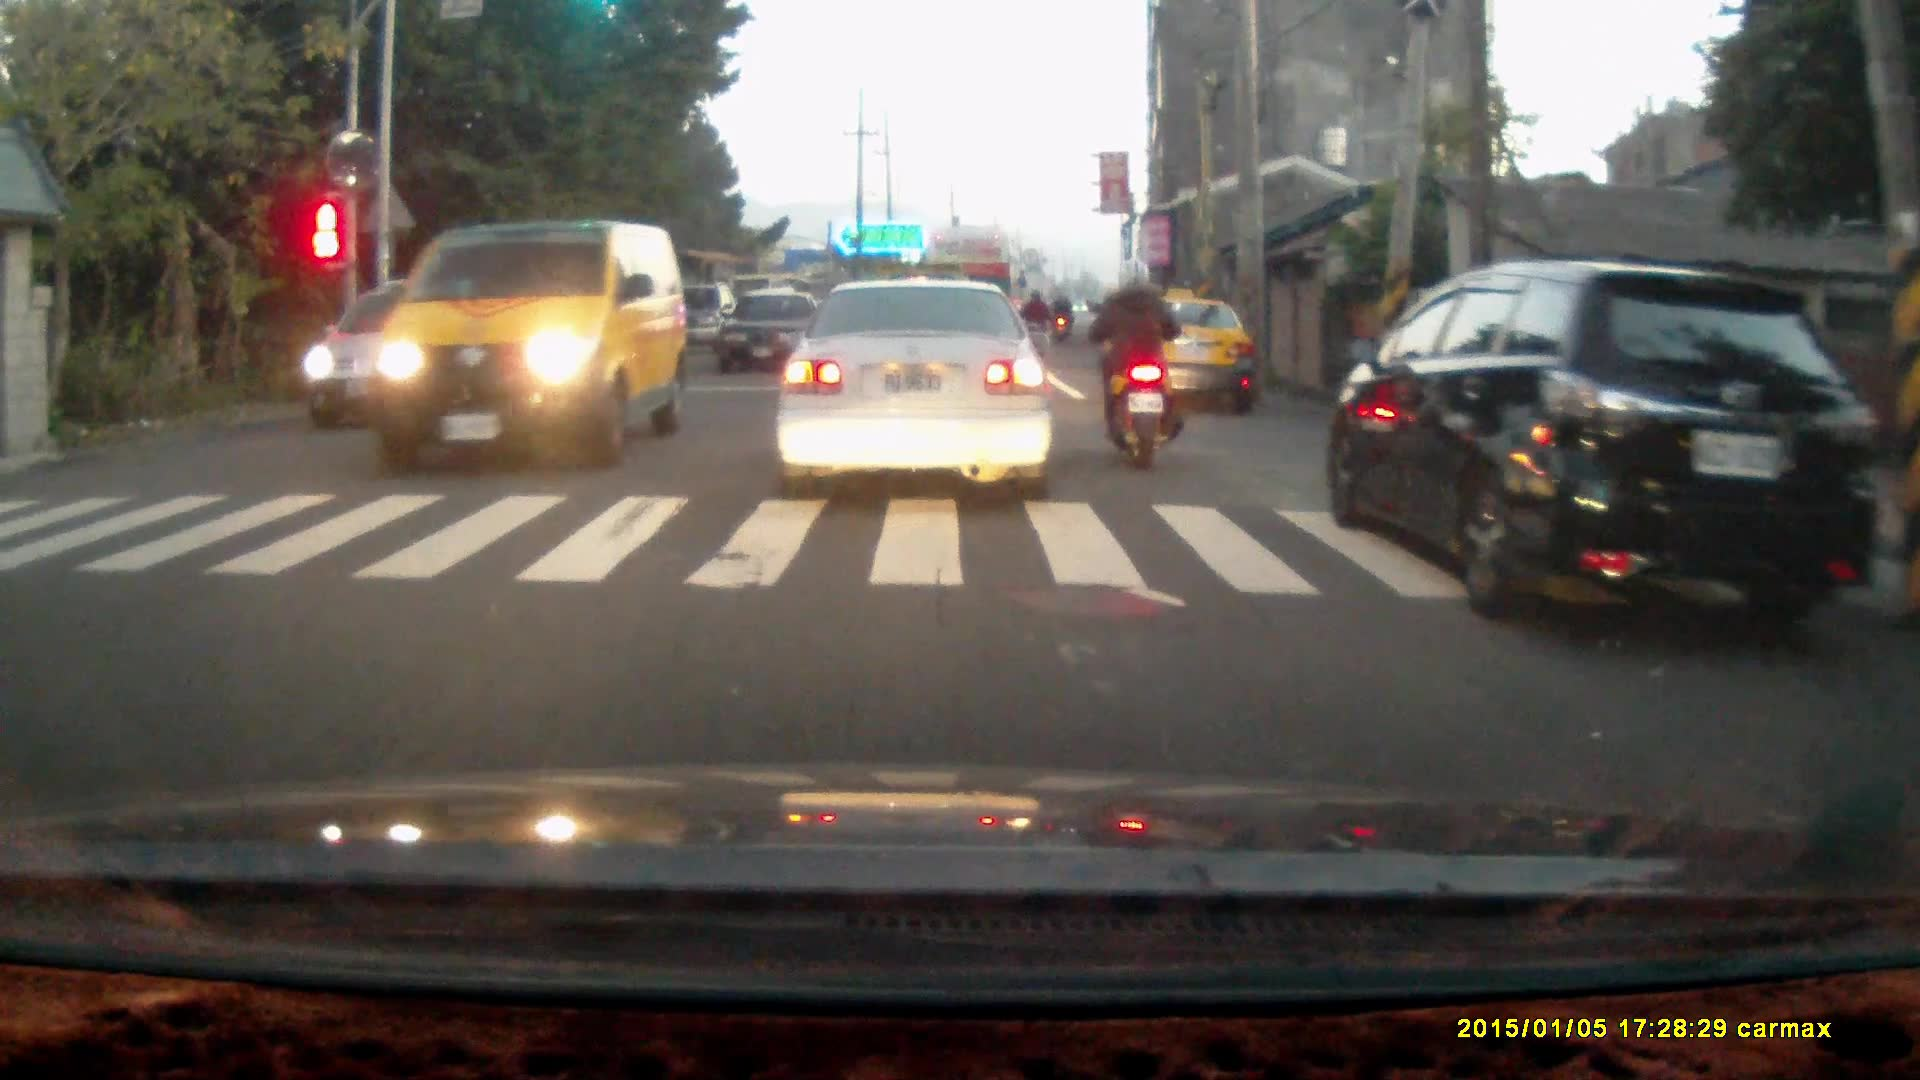rider: (1081, 252, 1179, 467)
vehicle: (1326, 253, 1879, 649), (372, 217, 685, 468), (775, 271, 1057, 498), (1106, 290, 1257, 416), (918, 218, 1019, 357), (718, 284, 822, 375)
